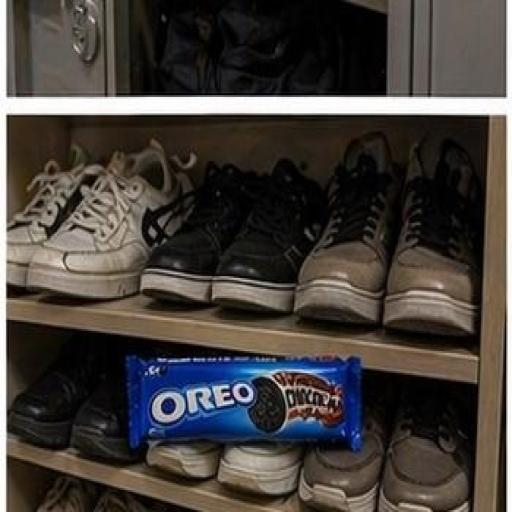oreo: (86, 312, 387, 490)
